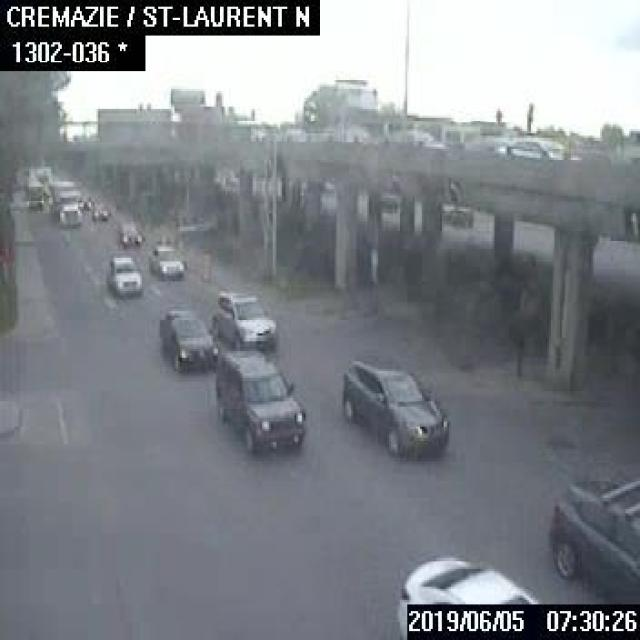bus: (23, 173, 44, 207)
construction: (201, 251, 211, 277)
vehicle: (338, 344, 449, 456), (544, 471, 638, 600), (394, 553, 536, 638), (217, 351, 305, 453), (155, 305, 219, 372), (214, 284, 277, 351), (508, 134, 579, 159), (462, 134, 542, 156), (49, 174, 82, 226), (108, 254, 143, 296), (376, 128, 442, 148), (150, 245, 184, 278), (113, 217, 145, 244), (442, 204, 473, 229), (89, 197, 110, 219)
